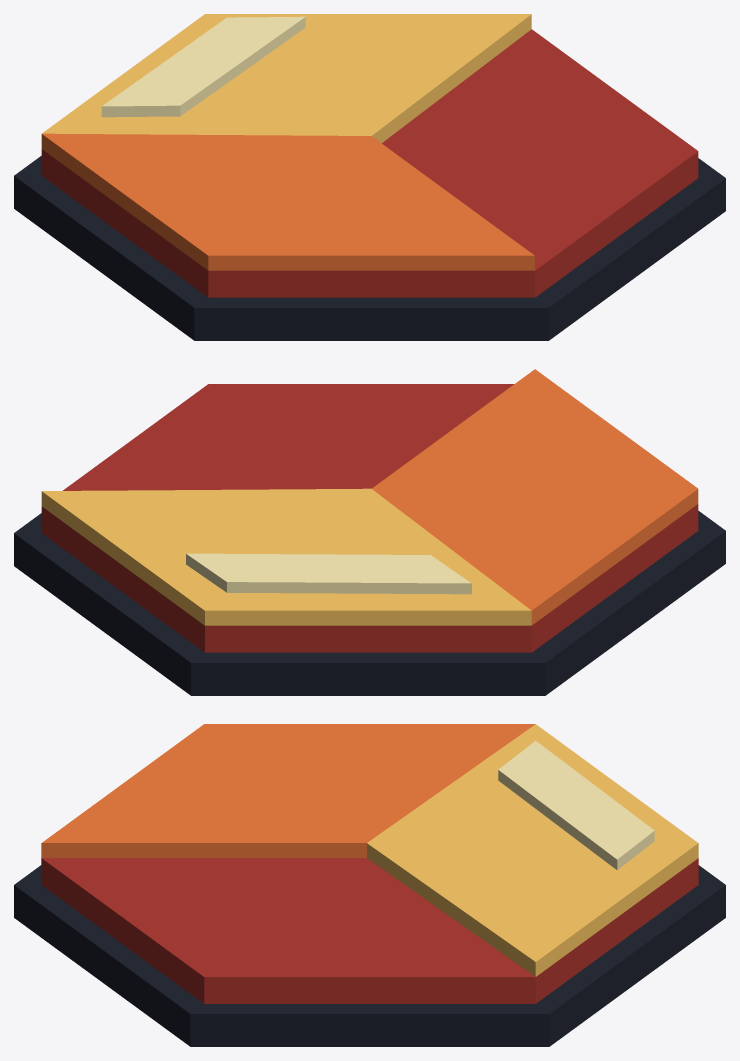
The model's file is lava_cube.fbx.
3 renders of one model, top to bottom at view 1: azimuth 30°, elevation 25°; view 2: azimuth 150°, elevation 25°; view 3: azimuth 270°, elevation 25°, orthographic.
Parts seen in each view (by area): view 1: lava_cube; view 2: lava_cube; view 3: lava_cube.
Part boxes in pixels (x1=…): lava_cube: x1=14, y1=14, x2=725, y2=340; lava_cube: x1=14, y1=369, x2=725, y2=695; lava_cube: x1=14, y1=724, x2=725, y2=1046.
Size of the model in its own units: 0.9264 by 0.146 by 1.08.
1 material, 1 textured.
